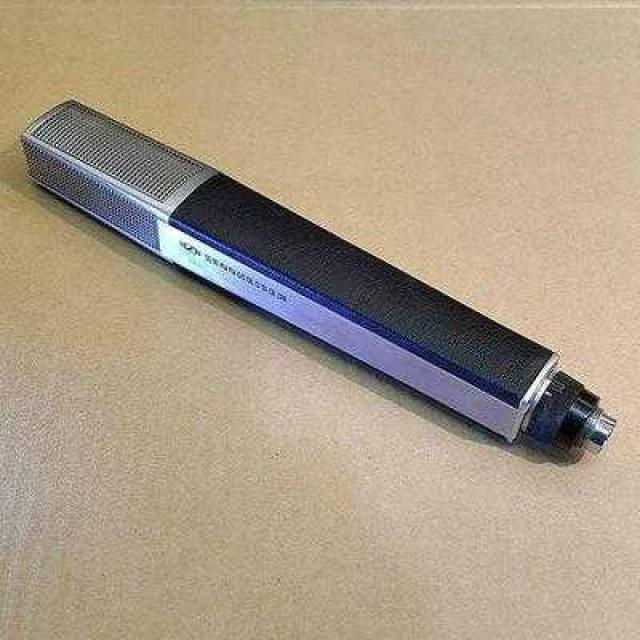microphone: (20, 107, 604, 464)
